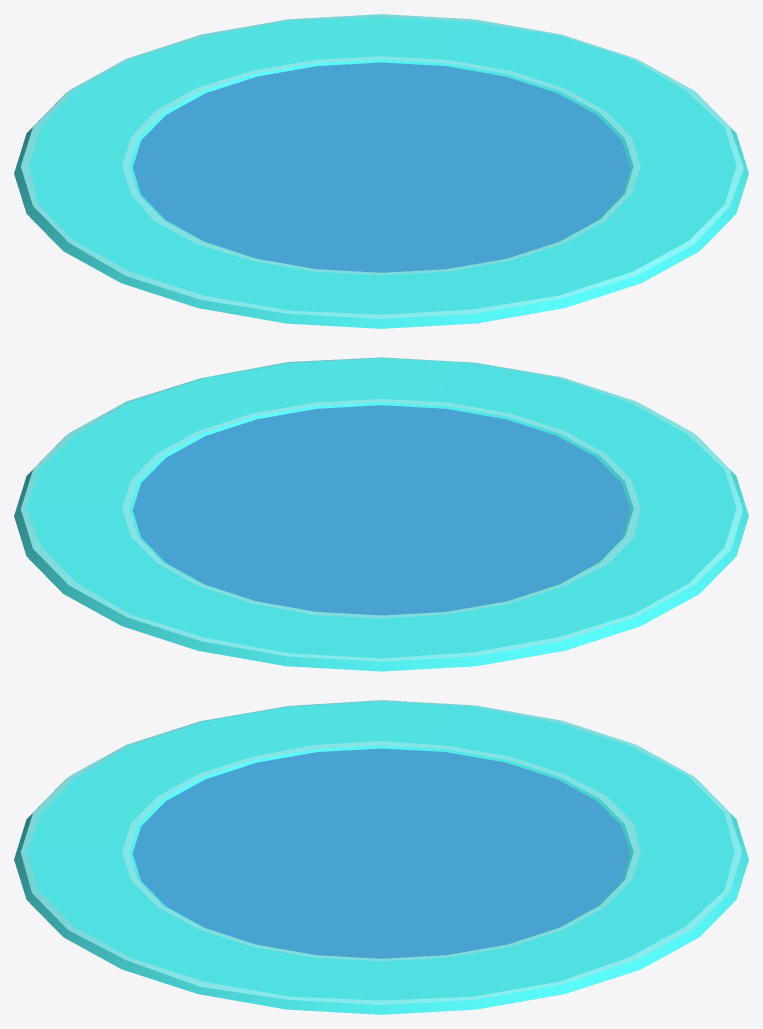
Rendered from POA.fbx.
The picture shows the model from 3 angles, top to bottom: view 1: azimuth 30°, elevation 25°; view 2: azimuth 150°, elevation 25°; view 3: azimuth 270°, elevation 25°; orthographic projection.
Visible parts, largest first — view 1: DestinationPoint; view 2: DestinationPoint; view 3: DestinationPoint.
Boxes of the visible parts, x1,y1,x2,y2 form: DestinationPoint: (14,14,748,328); DestinationPoint: (14,357,748,671); DestinationPoint: (14,700,748,1014).
Size of the model in its own units: 22.53 by 0.2672 by 22.53.
